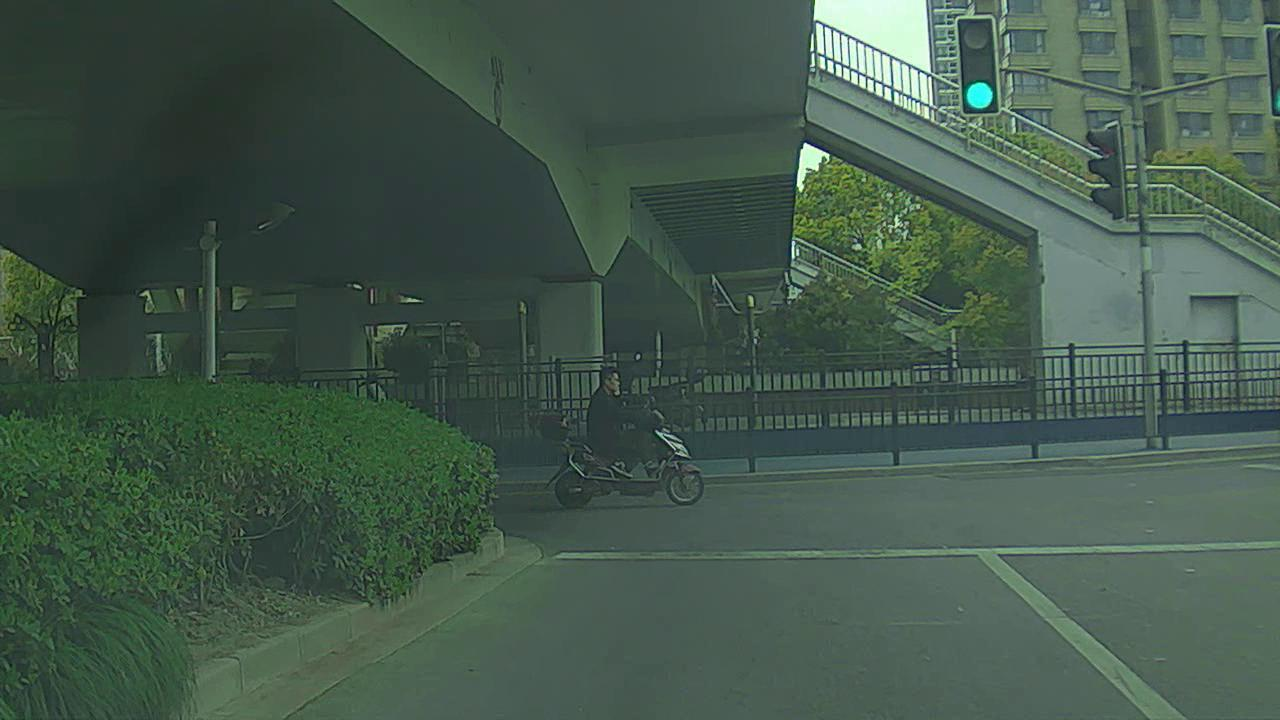traffic_light: (962, 20, 1002, 116)
